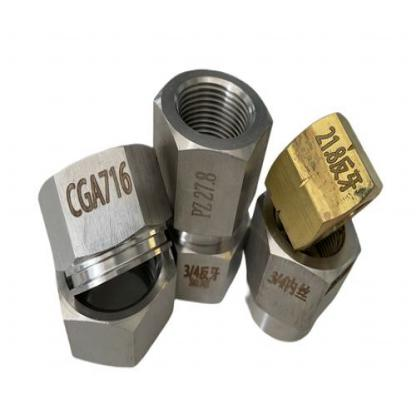FOD: (151, 64, 274, 248), (32, 140, 178, 290), (238, 191, 365, 344), (256, 113, 384, 261), (54, 225, 180, 368)
